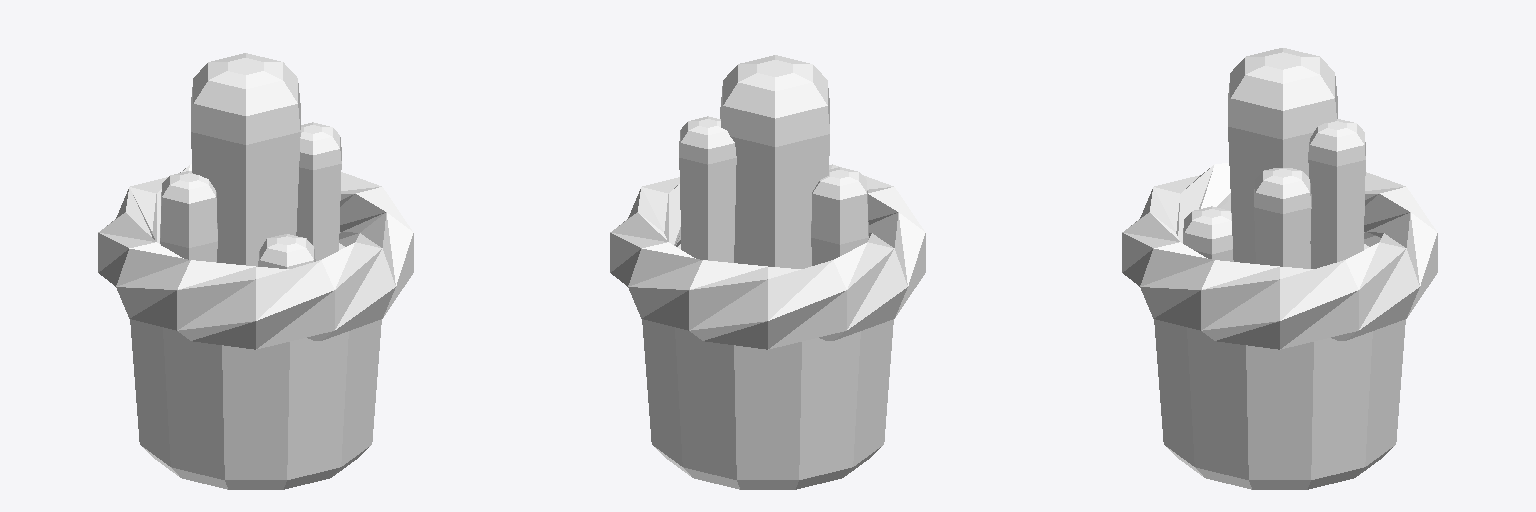
Rendered from Tiny Cactus 2.obj.
3 views of the same model, side by side, from view 1: azimuth 30°, elevation 25°; view 2: azimuth 150°, elevation 25°; view 3: azimuth 270°, elevation 25° (orthographic).
Visible parts, largest first — view 1: Tiny Cactus 2; view 2: Tiny Cactus 2; view 3: Tiny Cactus 2.
Boxes of the visible parts, x1=… form: Tiny Cactus 2: x1=98, y1=53, x2=413, y2=489; Tiny Cactus 2: x1=610, y1=55, x2=925, y2=489; Tiny Cactus 2: x1=1122, y1=48, x2=1437, y2=489.
Bounding box in the file's own units: 0.5 × 0.6505 × 0.4872.